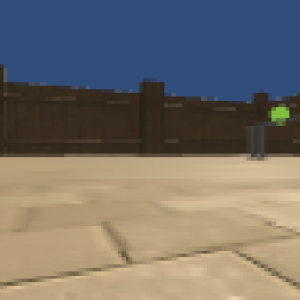goodGoal: (266, 103, 294, 129)
wall: (247, 122, 269, 162)
